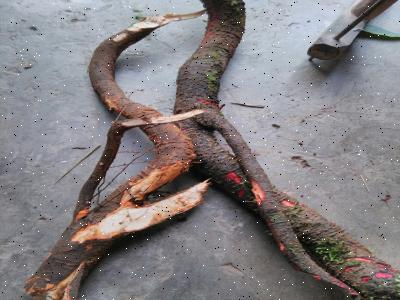Root: (24, 0, 400, 300), (173, 0, 400, 300), (89, 15, 174, 122)
